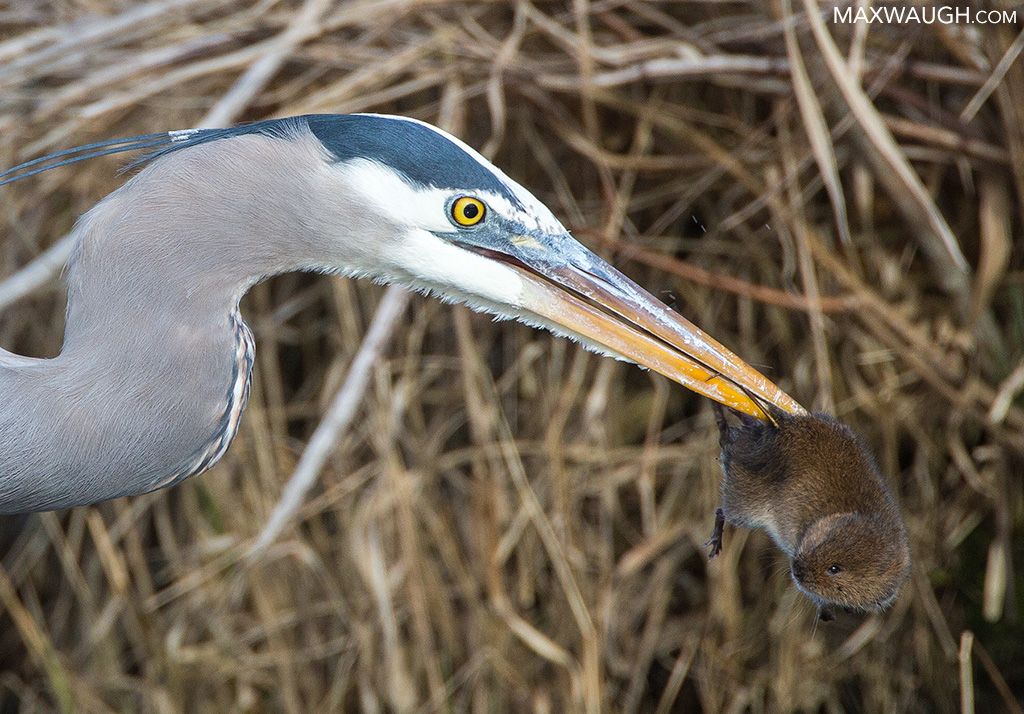heron: (1, 89, 863, 581)
